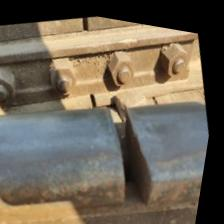person: (67, 81, 211, 223), (62, 9, 109, 39), (78, 79, 114, 111)
